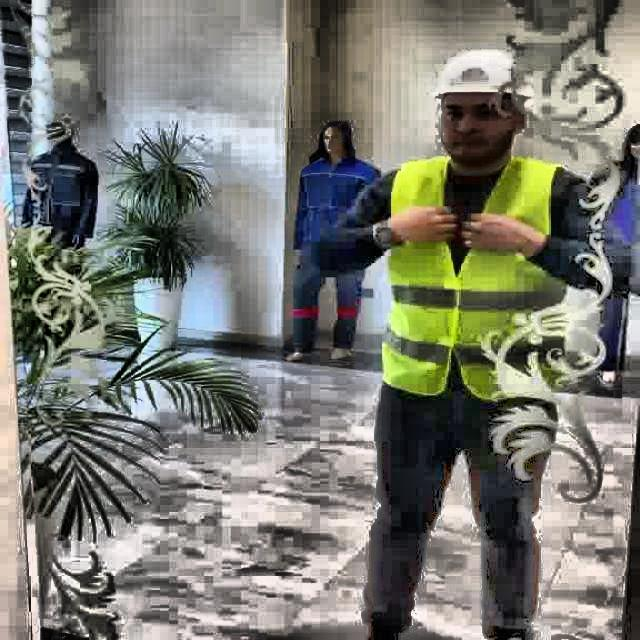safety_jacket: (378, 150, 566, 398)
